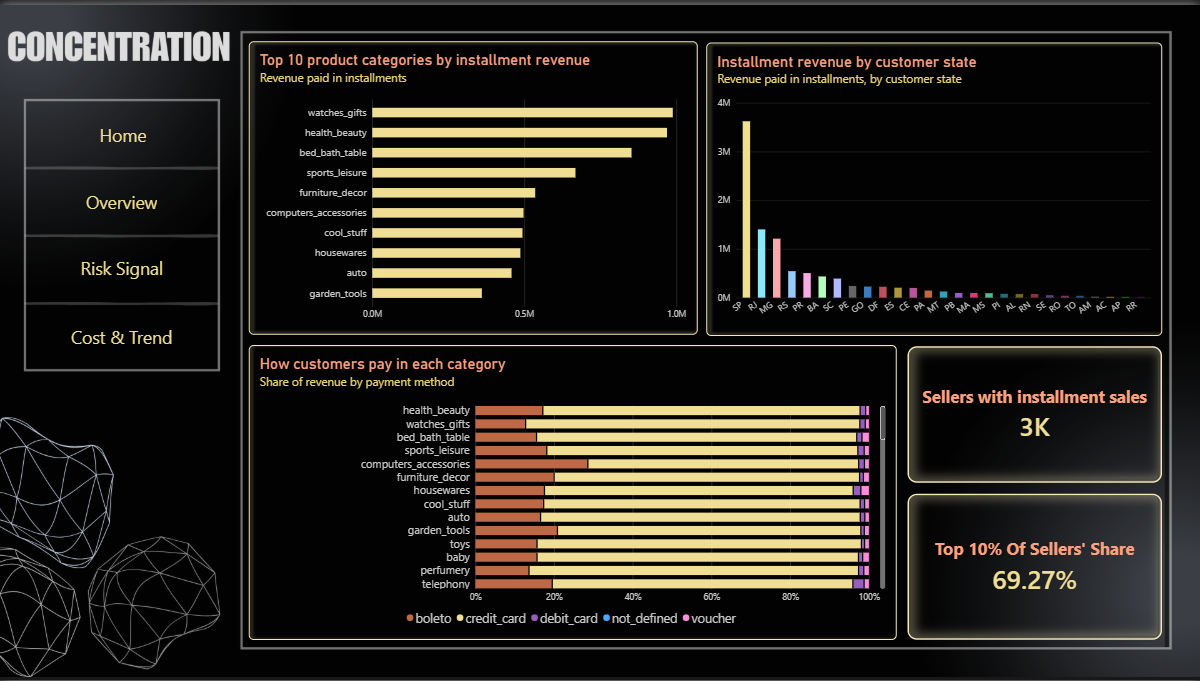

The page's visual inventory and layout, read from the dashboard file:
{"tool":"powerbi","page":{"name":"Concentration","canvas":[1920,1080],"ordinal":2},"visuals":[{"type":"clusteredBarChart","title":"Top 10 product categories by installment revenue","fields":{"Category":["public dim_products.product_category_name_english"],"Y":["public fact_orders.Financed Revenue"]},"box":[398.2,58.4,718.5,469.6],"z":0},{"type":"clusteredColumnChart","title":"Installment revenue by customer state","fields":{"Category":["public dim_customers.customer_state"],"Y":["public fact_orders.Financed Revenue"]},"box":[1129.7,60.6,729.3,469.6],"z":1000},{"type":"cardVisual","title":"Seller concentration risk","fields":{"Data":["public fact_orders.Top10 Sellers Share"]},"box":[1452.1,781.3,406.9,233.7],"z":2000},{"type":"cardVisual","fields":{"Data":["public fact_orders.Total Financed Sellers"]},"box":[1452.1,545.4,406.9,218.6],"z":3000},{"type":"hundredPercentStackedBarChart","title":"How customers pay in each category","fields":{"Category":["public dim_products.product_category_name_english"],"Series":["public fact_orders.payment_type_mode"],"Y":["public fact_orders.Total Revenue"]},"box":[398.2,543.2,1036.6,471.8],"z":4000},{"type":"actionButton","box":[41.1,153.7,309.5,110.4],"z":5000},{"type":"actionButton","box":[40.5,366.3,309.5,110.4],"z":6000},{"type":"actionButton","box":[40.5,259.5,309.2,110.4],"z":7000},{"type":"actionButton","box":[40.5,476.7,309.2,110.4],"z":8000}]}

Visuals, with their boxes in screenshot pixels (x1, y1, x2, y2), scaled from the page's 1920x1080 canvas onto the 1200x681 screenshot:
"Top 10 product categories by installment revenue" clusteredBarChart: bbox(249, 37, 698, 333)
"Installment revenue by customer state" clusteredColumnChart: bbox(706, 38, 1162, 334)
"Seller concentration risk" cardVisual: bbox(908, 493, 1162, 640)
cardVisual - public fact_orders.Total Financed Sellers: bbox(908, 344, 1162, 482)
"How customers pay in each category" hundredPercentStackedBarChart: bbox(249, 343, 897, 640)
actionButton: bbox(26, 97, 219, 167)
actionButton: bbox(25, 231, 219, 301)
actionButton: bbox(25, 164, 219, 233)
actionButton: bbox(25, 301, 219, 370)
